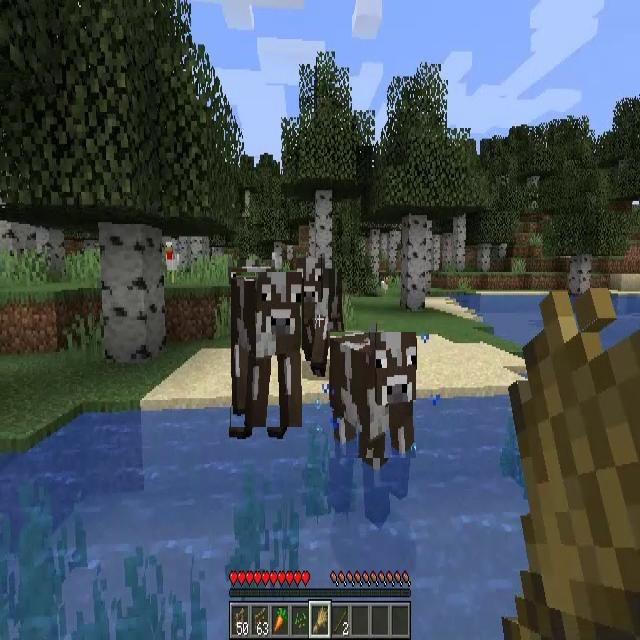cow: (231, 272, 302, 427), (330, 332, 416, 458), (298, 258, 341, 362)
